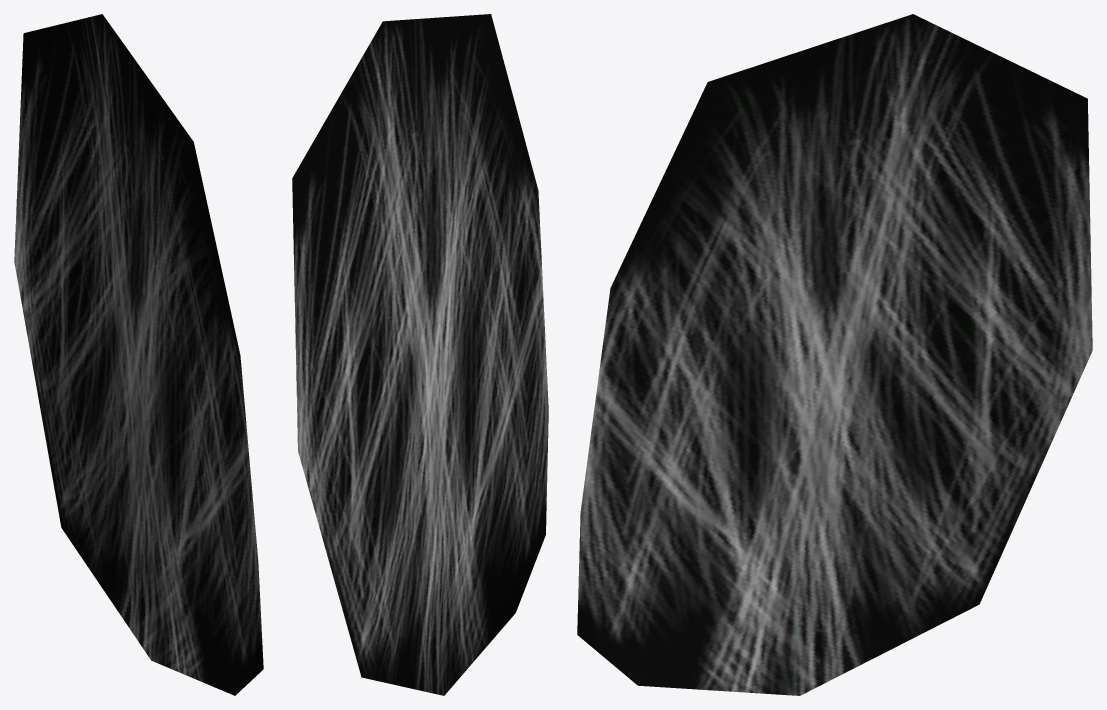
File: MIRKWOOD_SPIDERWEB_COVERS08.fbx
The picture shows the model from 3 angles, left to right: view 1: azimuth 30°, elevation 25°; view 2: azimuth 150°, elevation 25°; view 3: azimuth 270°, elevation 25°; orthographic projection. The views are drawn at different scales.
Visible parts, largest first — view 1: MIRKWOOD_SPIDERWEB_COVERS08; view 2: MIRKWOOD_SPIDERWEB_COVERS08; view 3: MIRKWOOD_SPIDERWEB_COVERS08.
Boxes of the visible parts, left/top/right/bottom form: MIRKWOOD_SPIDERWEB_COVERS08: left=14, top=14, right=263, bottom=695; MIRKWOOD_SPIDERWEB_COVERS08: left=292, top=14, right=548, bottom=695; MIRKWOOD_SPIDERWEB_COVERS08: left=577, top=14, right=1092, bottom=695.
Size of the model in its own units: 2242 by 56990 by 38988.
Materials: 1 (1 with a texture image).
